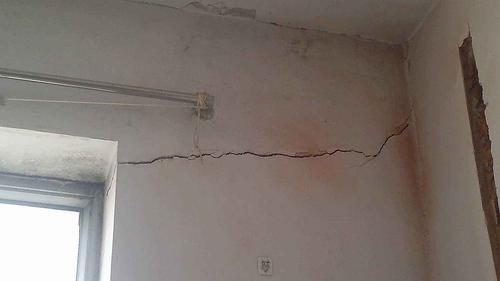Crack: (118, 107, 414, 165), (105, 165, 118, 198)
Spalling: (455, 22, 500, 281), (180, 1, 257, 20)
